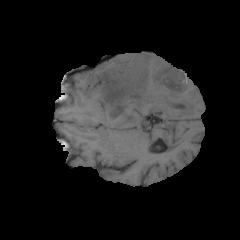glioma: (97, 52, 196, 129)
